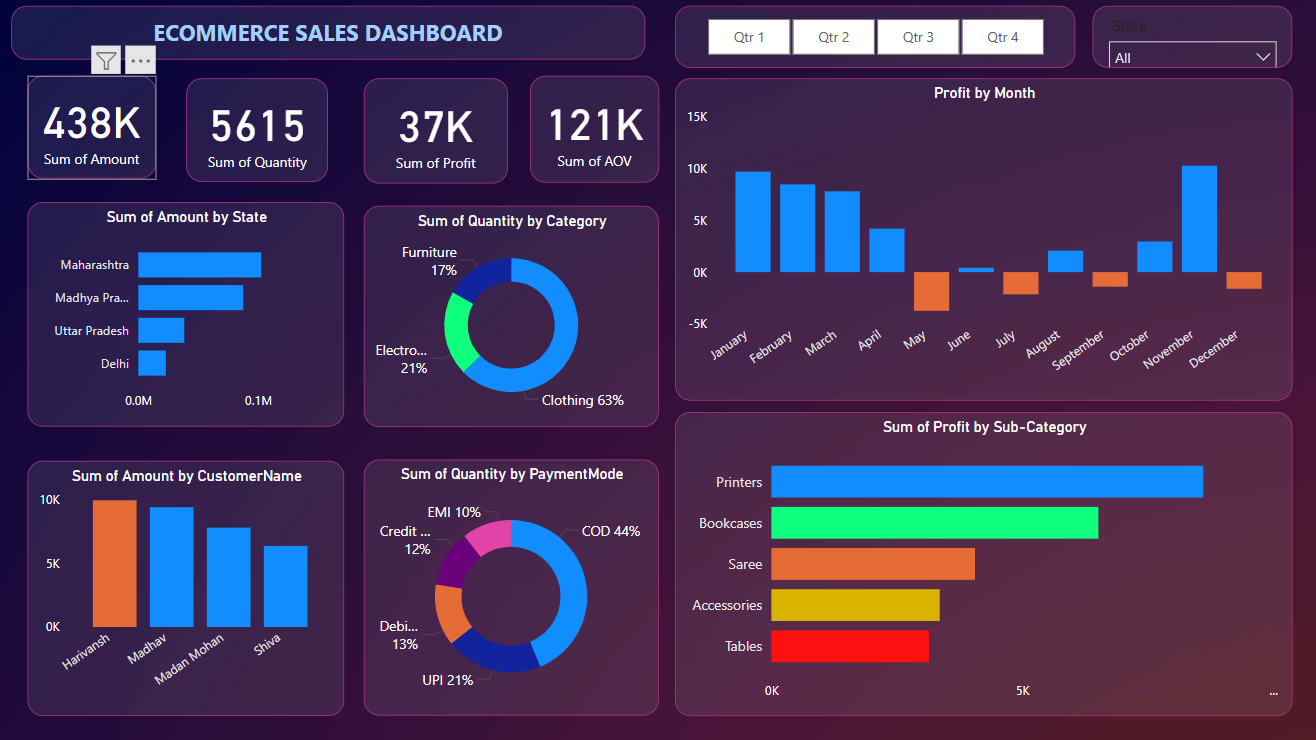

This screenshot's page, from the dashboard's own definition file:
{"tool":"powerbi","page":{"name":"Page 1","canvas":[1280,720],"ordinal":0},"visuals":[{"type":"textbox","box":[15.7,8.4,611.7,51.9],"z":0},{"type":"columnChart","title":" Profit by Month","fields":{"Category":["Orders.Order Date.Variation.Date Hierarchy.Month"],"Y":["Details.Profit"]},"box":[656.7,78.3,596.2,311.5],"z":1000},{"type":"barChart","fields":{"Category":["Details.Sub-Category"],"Y":["Details.Profit"]},"box":[656.7,400.5,596.2,293.7],"z":2000},{"type":"donutChart","fields":{"Category":["Details.Category"],"Y":["Details.Quantity"]},"box":[356,201.1,284.8,213.6],"z":3000},{"type":"donutChart","fields":{"Y":["Details.Quantity"],"Category":["Details.PaymentMode"]},"box":[356,446.7,284.8,247.4],"z":4000},{"type":"card","fields":{"Values":["Details.Amount"]},"box":[31.7,76.5,124.1,99.6],"z":5000},{"type":"card","fields":{"Values":["Details.Quantity"]},"box":[185.1,78.3,137,99.7],"z":6000},{"type":"card","fields":{"Values":["Details.Profit"]},"box":[356,78.3,138.8,101.4],"z":7000},{"type":"card","fields":{"Values":["Details.AOV"]},"box":[516.1,76.5,124.6,103.2],"z":8000},{"type":"barChart","fields":{"Category":["Orders.State"],"Y":["Details.Amount"]},"box":[31.7,197.7,305.9,216.4],"z":9000},{"type":"columnChart","fields":{"Category":["Orders.CustomerName"],"Y":["Details.Amount"]},"box":[31.7,447.3,305.9,246.7],"z":10000},{"type":"slicer","fields":{"Values":["Orders.Order Date.Variation.Date Hierarchy.Quarter"]},"box":[656.3,8.4,386.1,60.3],"z":11000},{"type":"slicer","fields":{"Values":["Orders.State"]},"box":[1059.3,8.4,193,60.3],"z":12000}]}

Visuals, with their boxes in screenshot pixels (x1, y1, x2, y2), scaled from the page's 1280x720 canvas onto the 1316x740 screenshot:
textbox: (left=16, top=9, right=645, bottom=62)
" Profit by Month" columnChart: (left=675, top=80, right=1288, bottom=401)
barChart - Details.Sub-Category x Details.Profit: (left=675, top=412, right=1288, bottom=713)
donutChart - Details.Category x Details.Quantity: (left=366, top=207, right=659, bottom=426)
donutChart - Details.Quantity x Details.PaymentMode: (left=366, top=459, right=659, bottom=713)
card - Details.Amount: (left=33, top=79, right=160, bottom=181)
card - Details.Quantity: (left=190, top=80, right=331, bottom=183)
card - Details.Profit: (left=366, top=80, right=509, bottom=185)
card - Details.AOV: (left=531, top=79, right=659, bottom=185)
barChart - Orders.State x Details.Amount: (left=33, top=203, right=347, bottom=426)
columnChart - Orders.CustomerName x Details.Amount: (left=33, top=460, right=347, bottom=713)
slicer - Orders.Order Date.Variation.Date Hierarchy.Quarter: (left=675, top=9, right=1072, bottom=71)
slicer - Orders.State: (left=1089, top=9, right=1288, bottom=71)
